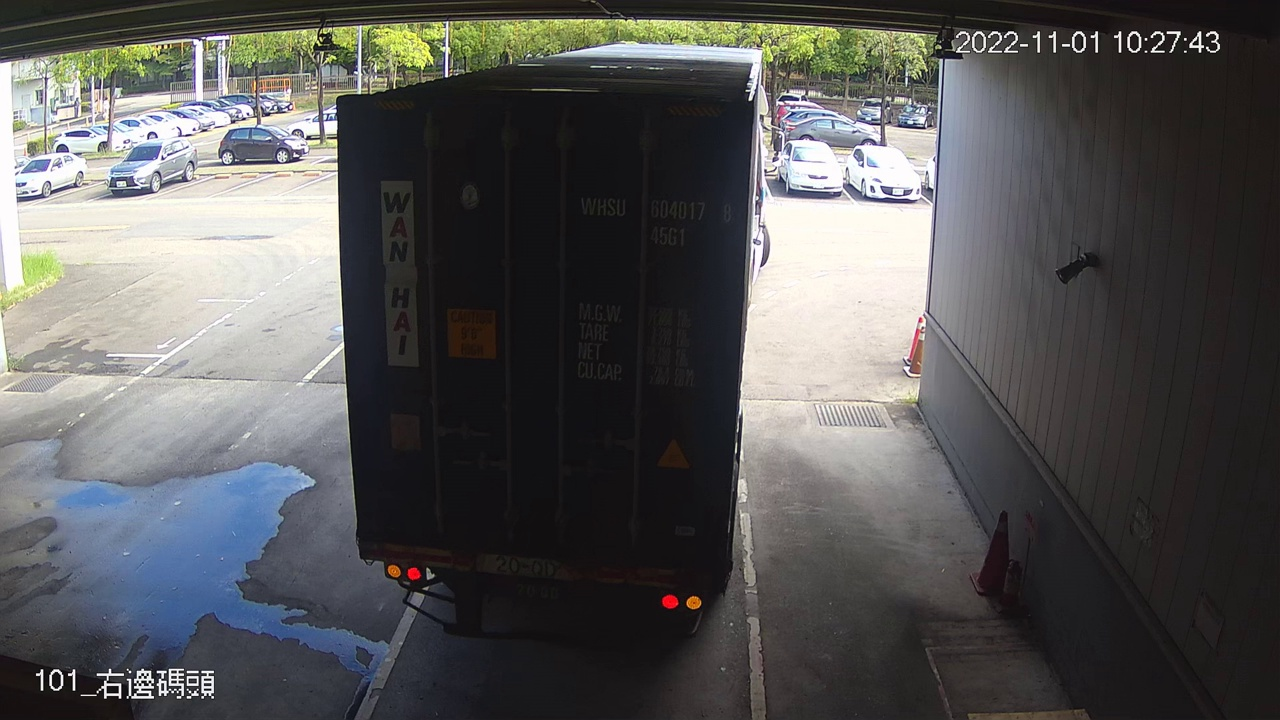container: (575, 185, 743, 252)
